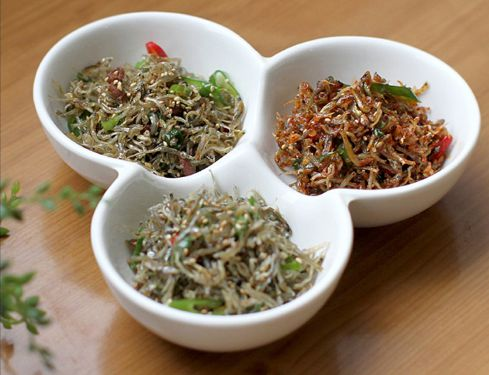myeolchibokk-eum: (54, 37, 241, 176), (123, 185, 322, 312), (274, 65, 452, 196)
